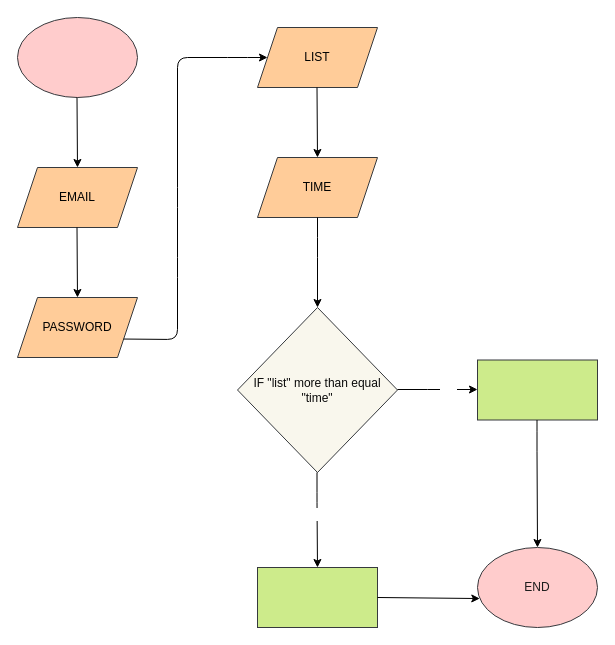
The diagram is 615 pixels wide and 645 high, and some of its shapes have lost their labels. The shapes that lost their labels are listed below. From the top down, each one's centre as x and y in pixels, then its label:
point (77, 57): START
point (537, 389): PRINT "Already done"
point (317, 597): PRINT "don't forget to do it"
